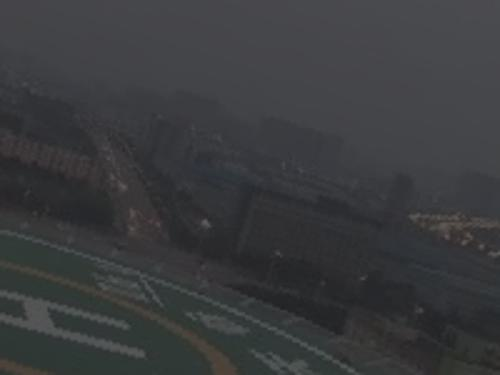Apron: (1, 264, 251, 371)
